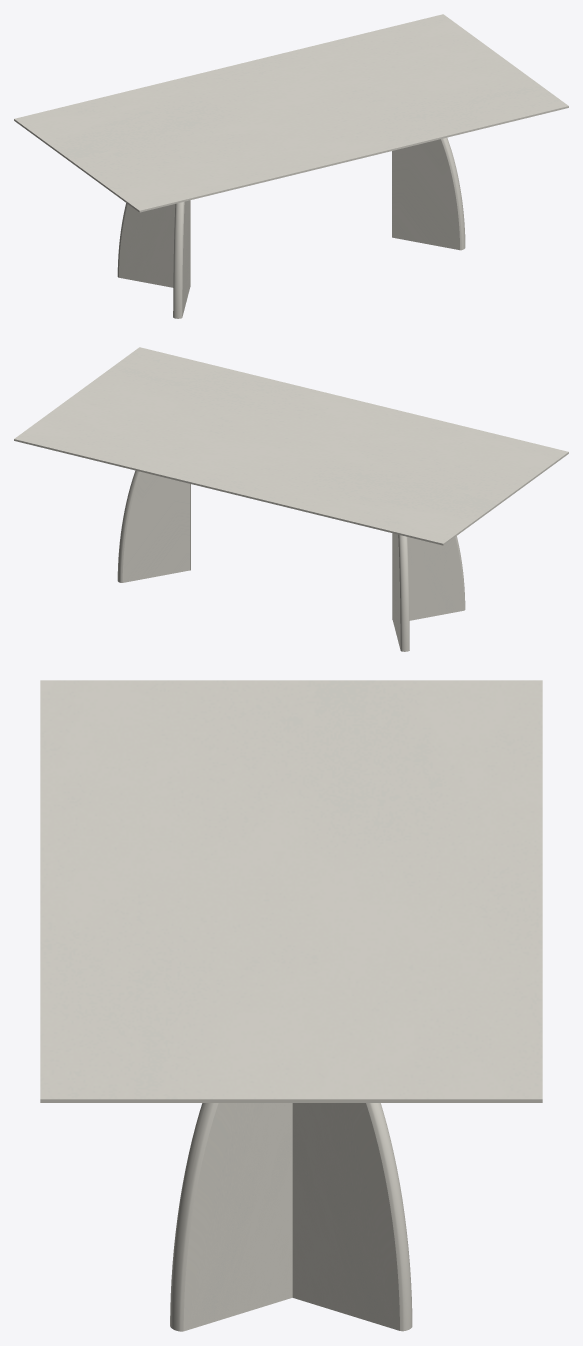
The model's file is pale_recta_facet_newtable2.glb.
3 views of the same model, one above another, from view 1: azimuth 30°, elevation 25°; view 2: azimuth 150°, elevation 25°; view 3: azimuth 270°, elevation 25° (orthographic). The views are drawn at different scales.
Parts seen in each view (by area): view 1: facet_recta, newtable2_singleright2, newtable2_singleleft1, newtable2_singleright1; view 2: facet_recta, newtable2_singleleft2, newtable2_singleright1, newtable2_singleleft1; view 3: facet_recta, newtable2_singleright2, newtable2_singleleft2.
Part boxes in pixels (<box>): facet_recta: <box>14,14,568,212</box>; newtable2_singleright2: <box>392,137,465,250</box>; newtable2_singleleft1: <box>117,200,190,287</box>; newtable2_singleright1: <box>173,200,190,318</box>; facet_recta: <box>14,347,568,545</box>; newtable2_singleleft2: <box>117,470,190,582</box>; newtable2_singleright1: <box>392,533,465,620</box>; newtable2_singleleft1: <box>392,533,409,651</box>; facet_recta: <box>40,680,542,1102</box>; newtable2_singleright2: <box>170,1103,292,1331</box>; newtable2_singleleft2: <box>292,1103,412,1331</box>.
Bounding box in the file's own units: 7.5 × 2.5 × 3.8.
1 material, 1 textured.
